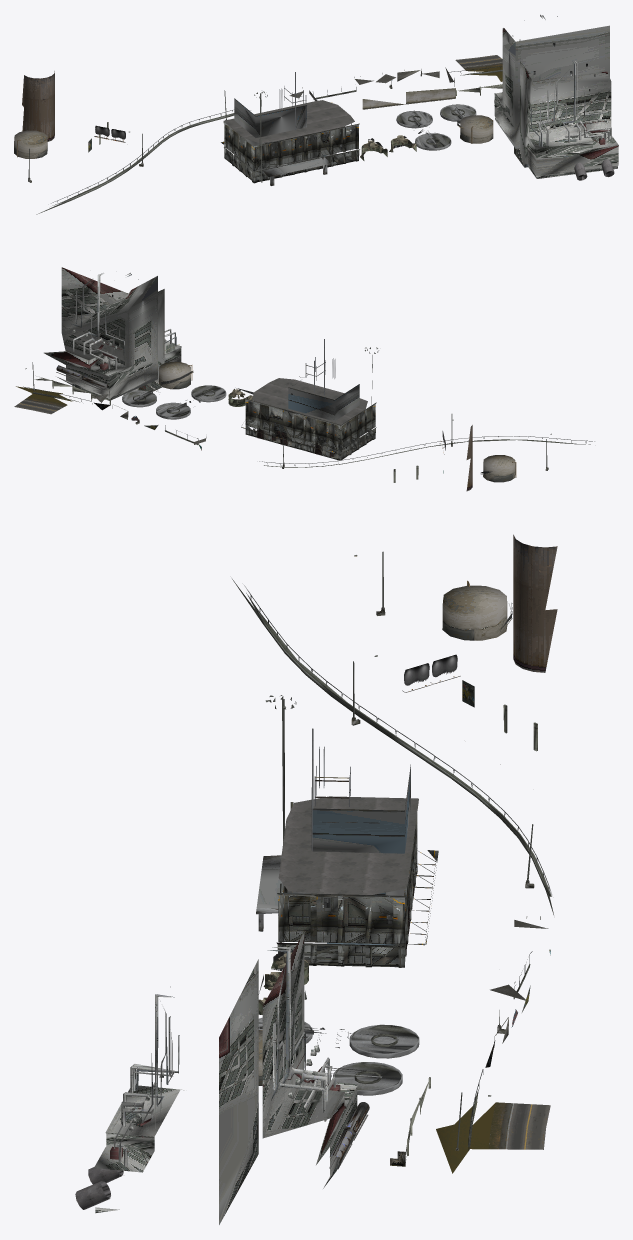
File: world_camden_11_-4.gltf
3 renders of one model, top to bottom at view 1: azimuth 30°, elevation 25°; view 2: azimuth 150°, elevation 25°; view 3: azimuth 270°, elevation 25°, orthographic. The views are drawn at different scales.
Size of the model in its own units: 278 by 59.63 by 105.
Materials: 37 (37 with a texture image).
